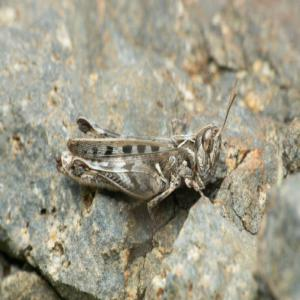locust: (41, 80, 240, 228)
